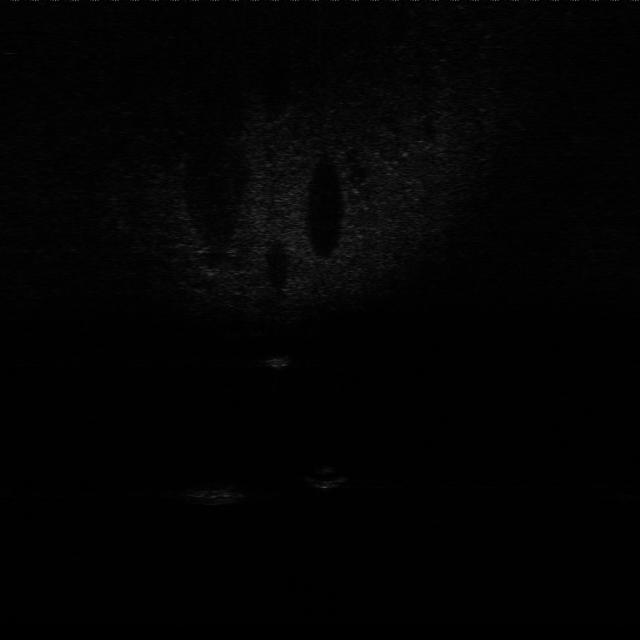ball: (306, 460, 356, 492)
circle cage: (186, 474, 254, 512)
cube: (262, 346, 296, 368)
